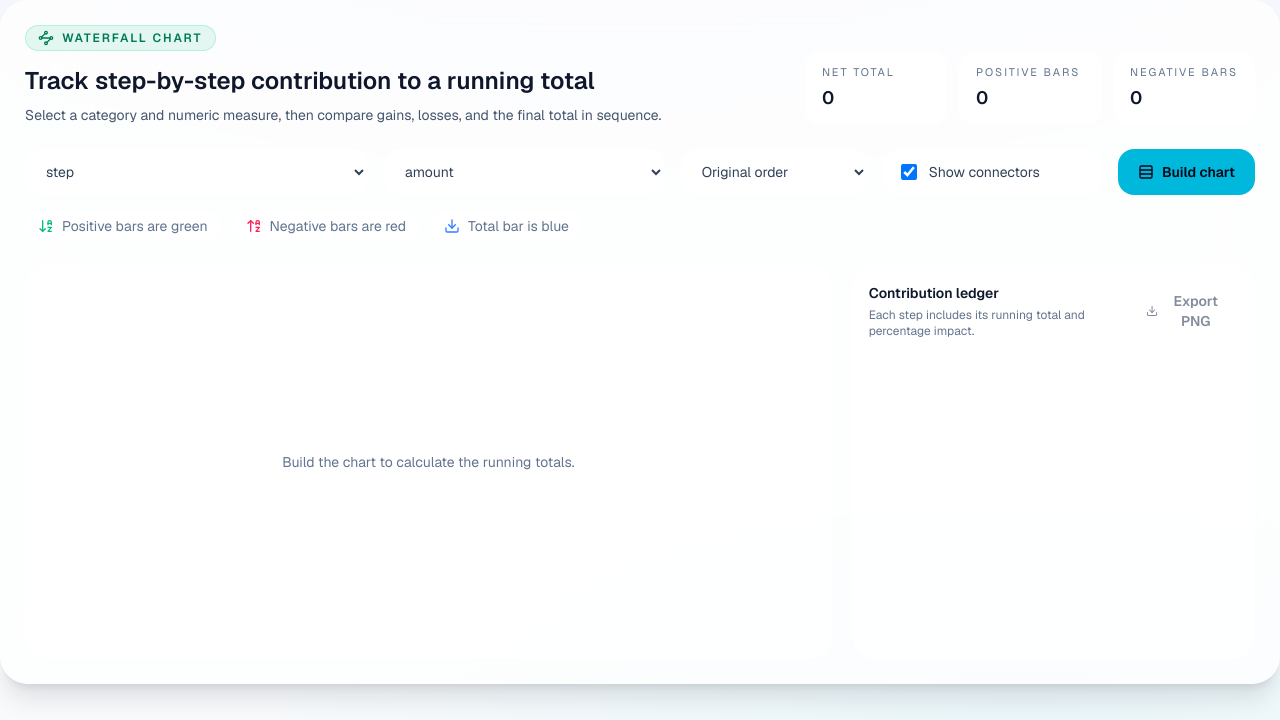
Scenario: WaterfallChart › shows query failures from DuckDB
The width and height of the screenshot is (1280, 720).
Step 1. Click the button "Build chart" → (1186, 172), box top-left (1118, 149), bottom-right (1255, 195)
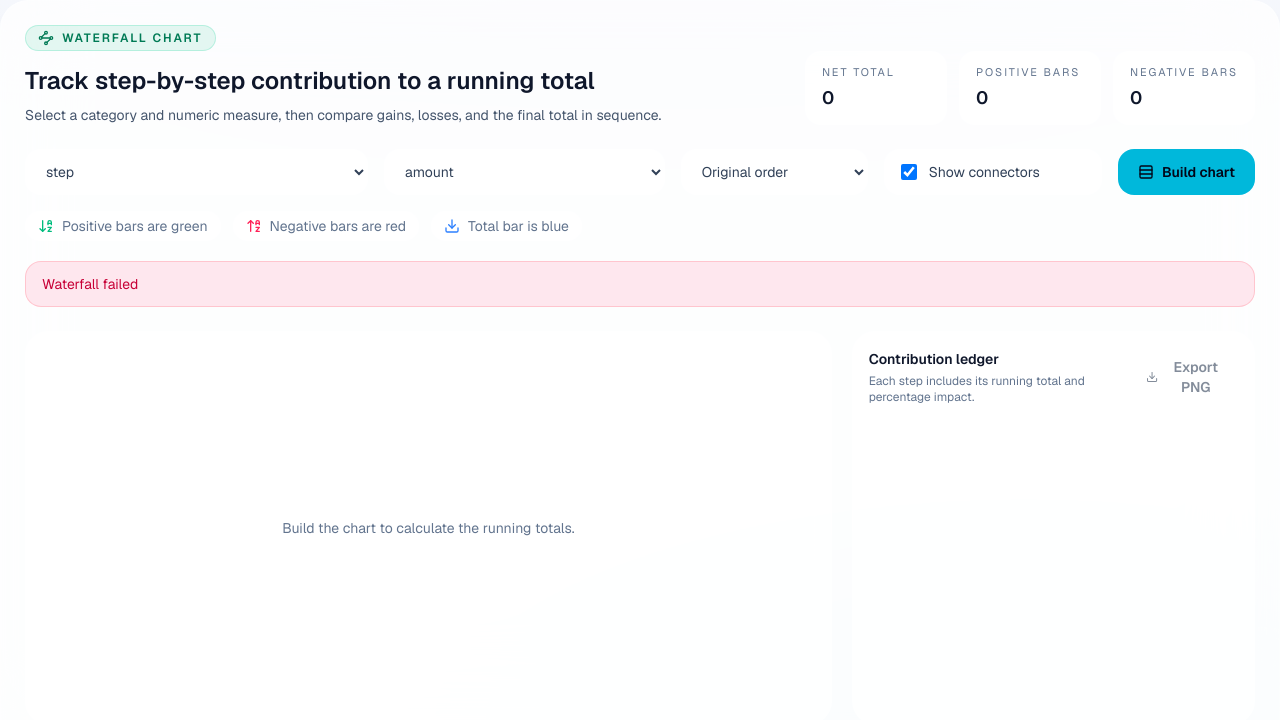
expect the text "Waterfall failed" is shown: met, box top-left (25, 261), bottom-right (1255, 307)
